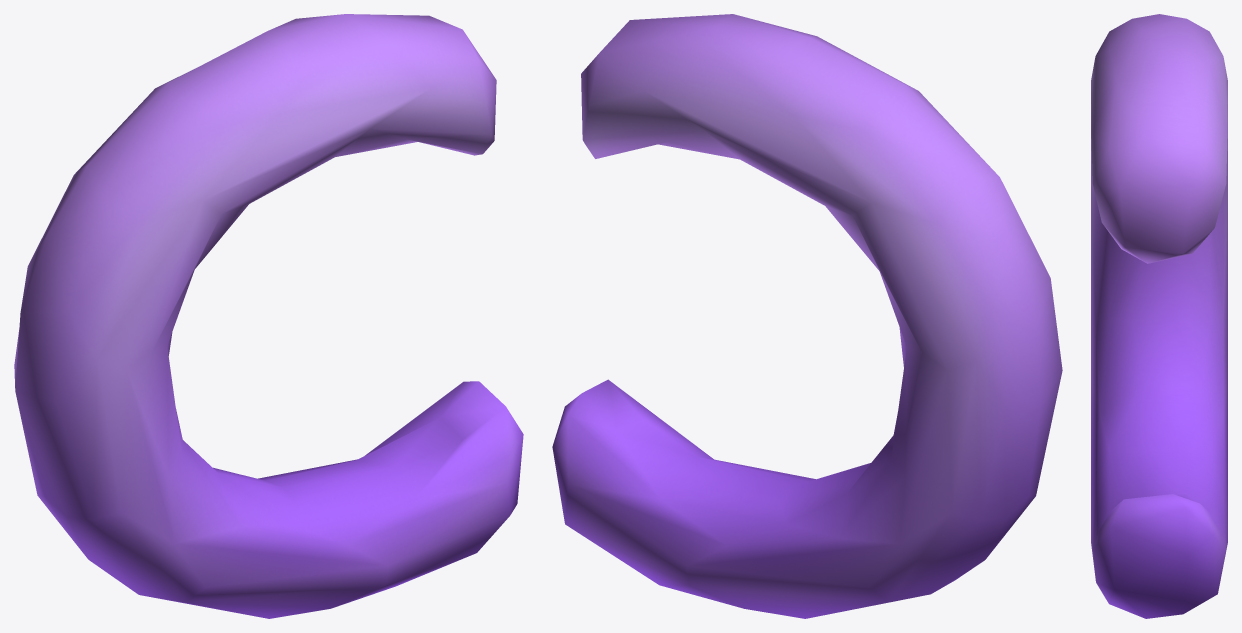
3 renders of one model, left to right at view 1: azimuth 30°, elevation 25°; view 2: azimuth 150°, elevation 25°; view 3: azimuth 270°, elevation 25°, orthographic. The views are drawn at different scales.
Visible parts, largest first — view 1: Processed_Mesh0_Geometry; view 2: Processed_Mesh0_Geometry; view 3: Processed_Mesh0_Geometry.
Part boxes in pixels (x1=…): Processed_Mesh0_Geometry: x1=14, y1=14, x2=523, y2=618; Processed_Mesh0_Geometry: x1=552, y1=14, x2=1062, y2=618; Processed_Mesh0_Geometry: x1=1091, y1=14, x2=1227, y2=618.
Size of what is drawn, in the model's own units: 0.0733 by 0.0832 by 0.0197.
1 material, 1 textured.
